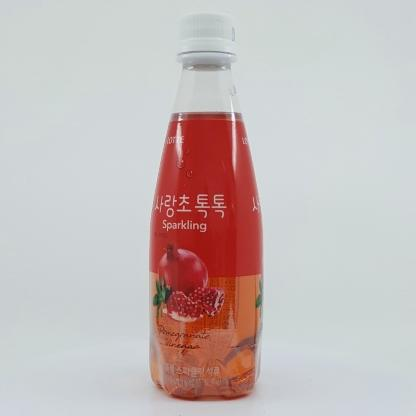-----------330ML: (149, 12, 264, 399)
